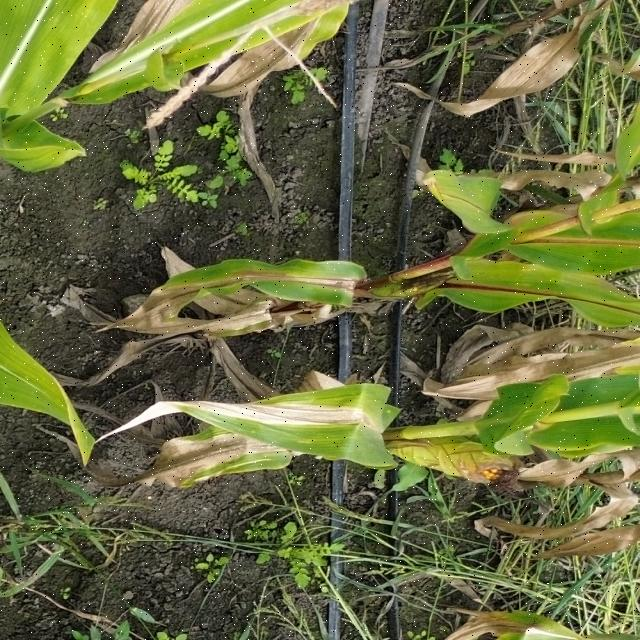northern-leaf-blight: (130, 388, 410, 446), (109, 249, 379, 307)
southern-leaf-blight: (489, 389, 612, 459)
